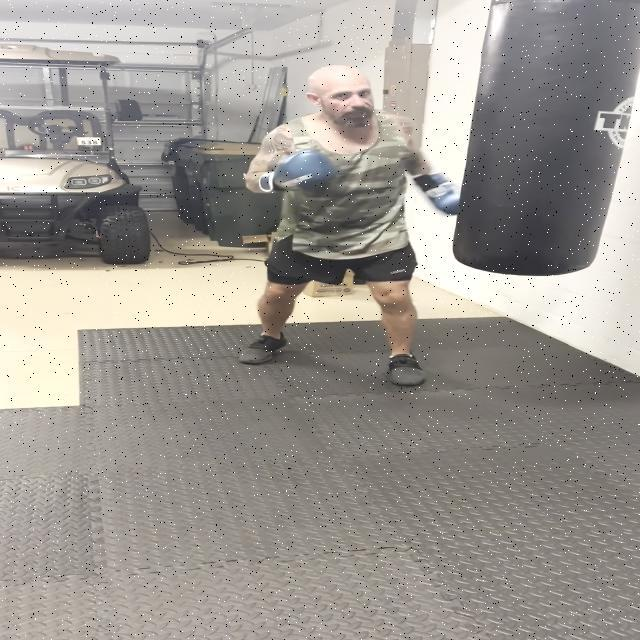bag: (483, 0, 607, 294)
hook: (242, 55, 496, 228)
